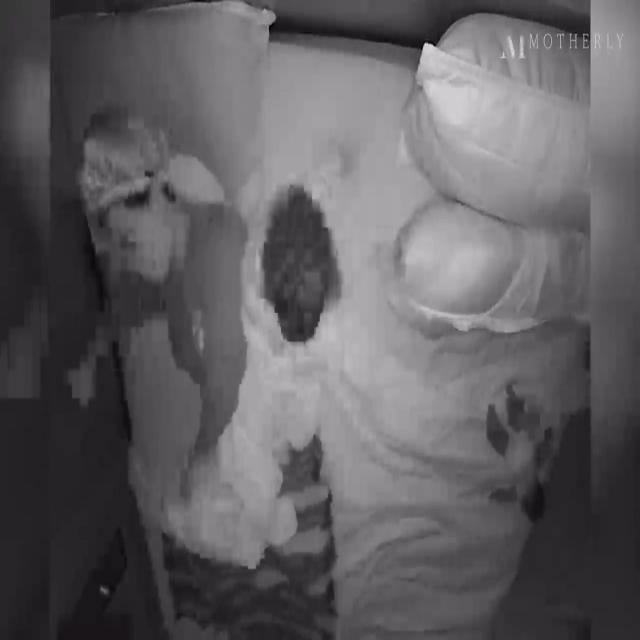baby: (215, 179, 345, 564)
